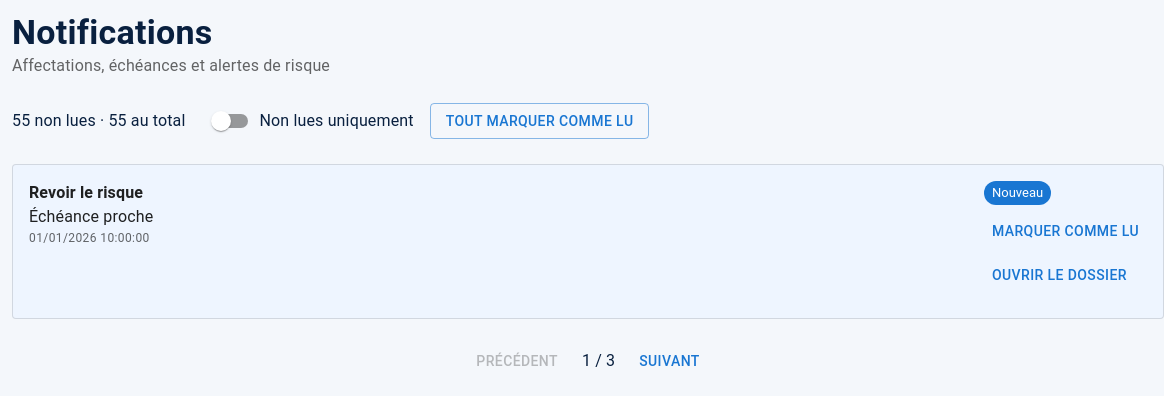
Test case: NotificationsPage › loads older notifications using a bounded offset
The width and height of the screenshot is (1164, 396).
Click the button "Suivant".
click(669, 361)  # box [631,343,708,380]
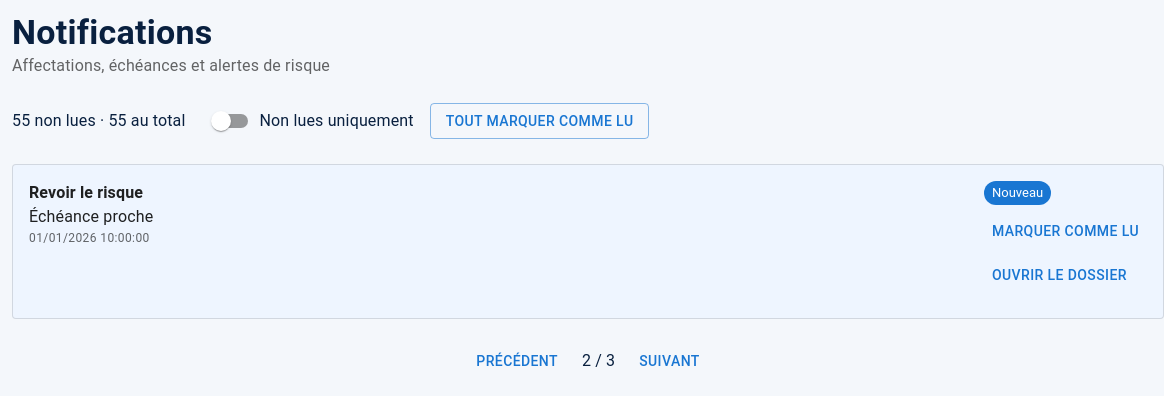
Expected: the text "2 / 3" is shown, [582,349,615,373]
